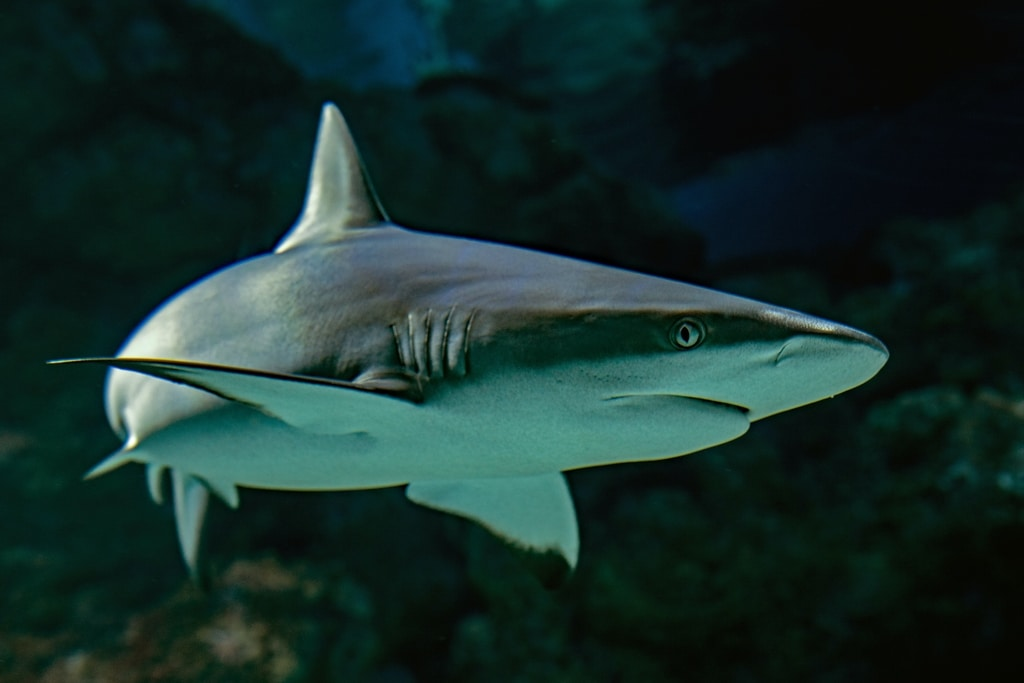shark: (38, 96, 900, 585)
